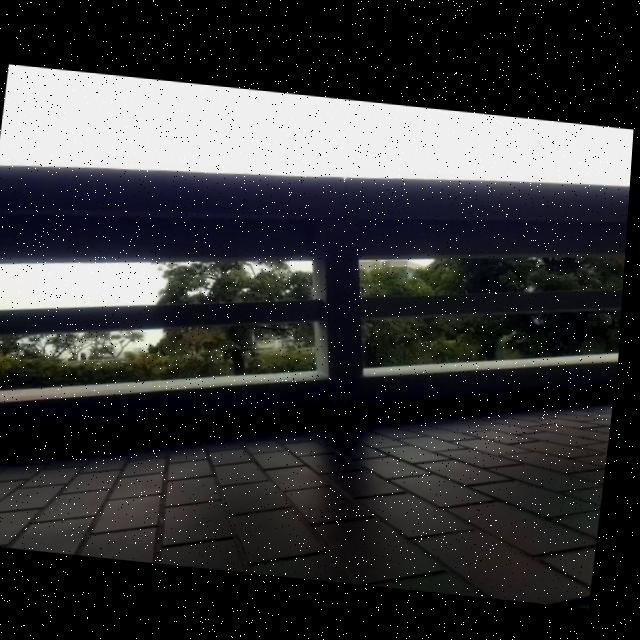B: (341, 390, 352, 405)
